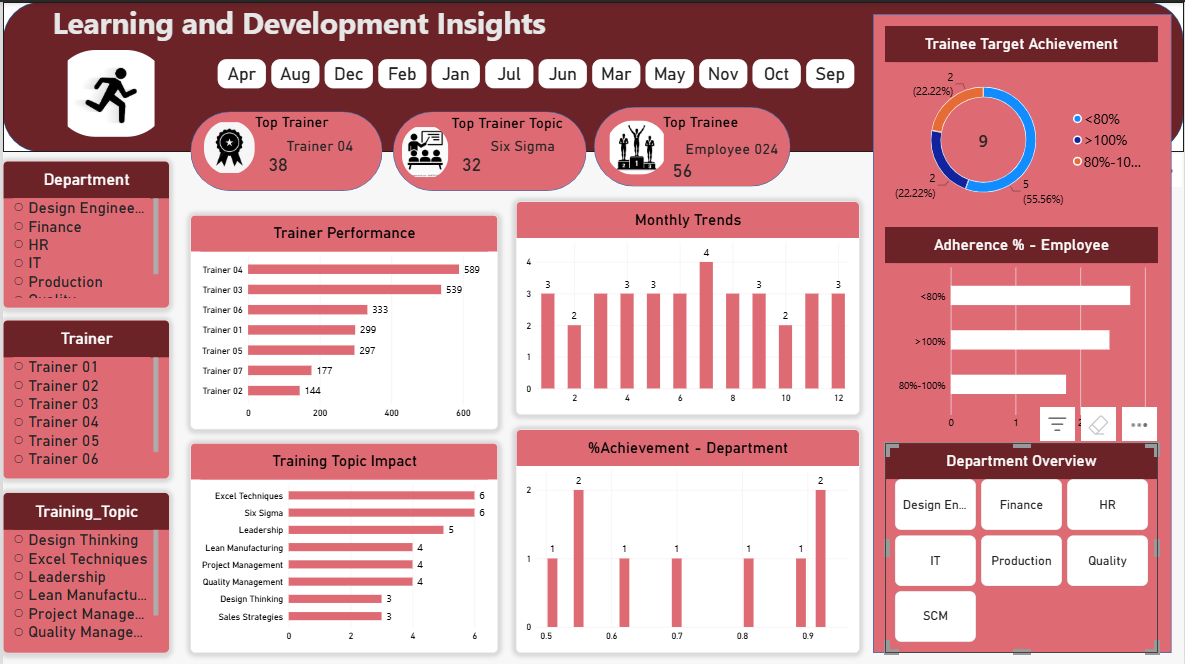

Layout of this report page (visuals, bound fields, positions):
{"tool":"powerbi","page":{"name":"Page 1","canvas":[1920,1080],"ordinal":0},"visuals":[{"type":"shape","box":[0,0,1920.1,244],"z":0},{"type":"textbox","box":[80.5,0,832,78.1],"z":1000},{"type":"advancedSlicerVisual","fields":{"Values":["Sessions_Log.Month"]},"box":[348.9,92.7,1044.2,48.8],"z":2000},{"type":"shape","box":[305,178.1,312.3,129.3],"z":3000},{"type":"shape","box":[634.4,178.1,314.7,129.3],"z":4000},{"type":"shape","box":[961.3,170.8,319.6,129.3],"z":5000},{"type":"listSlicer","fields":{"Values":["Employee_Adherence.Department"]},"box":[0,258.6,270.8,239.1],"z":6000},{"type":"listSlicer","fields":{"Values":["Sessions_Log.Trainer"]},"box":[0,517.2,270.8,258.6],"z":7000},{"type":"listSlicer","fields":{"Values":["Sessions_Log.Training_Topic"]},"box":[0,797.8,270.8,261.1],"z":8000},{"type":"clusteredBarChart","fields":{"Category":["Sessions_Log.Trainer"],"Y":["Sum(Sessions_Log.Trainee_Training_Hrs)"]},"box":[305,346.5,500.2,348.9],"z":9000},{"type":"clusteredBarChart","fields":{"Category":["Sessions_Log.Training_Topic"],"Y":["CountNonNull(Sessions_Log.Training_Topic)"]},"box":[305,717.3,500.2,341.6],"z":10000},{"type":"clusteredColumnChart","fields":{"Category":["Sessions_Log.Month_Num"],"Y":["CountNonNull(Sessions_Log.Month)"]},"box":[834.4,324.5,558.7,346.5],"z":10001},{"type":"clusteredColumnChart","fields":{"Category":["Department_Summary.Achievement_Pct"],"Y":["CountNonNull(Department_Summary.Department)"]},"box":[834.4,695.3,558.7,363.5],"z":10002},{"type":"shape","box":[1415.1,19.5,485.5,1039.4],"z":10003},{"type":"donutChart","fields":{"Category":["Employee_Adherence.Achievement_Bucket"],"Y":["CountNonNull(Employee_Adherence.Department)"]},"box":[1434.6,39,444,326.9],"z":10004},{"type":"clusteredBarChart","fields":{"Category":["Employee_Adherence.Achievement_Bucket"],"Y":["Sum(Employee_Adherence.Adherence_Pct)"]},"box":[1434.6,366,444,351.3],"z":10005},{"type":"advancedSlicerVisual","fields":{"Values":["Employee_Adherence.Department"]},"box":[1434.6,717.3,444,341.6],"z":10006},{"type":"textbox","box":[409.9,180.5,146.4,41.5],"z":10007},{"type":"textbox","box":[729.5,183,231.8,41.5],"z":10008},{"type":"textbox","box":[1073.5,180.5,146.4,41.5],"z":10009},{"type":"textbox","box":[461.1,219.6,136.6,41.5],"z":10010},{"type":"textbox","box":[431.8,248.9,43.9,41.5],"z":10011},{"type":"textbox","box":[792.9,219.6,139.1,41.5],"z":10012},{"type":"textbox","box":[746.6,248.9,58.6,41.5],"z":10013},{"type":"textbox","box":[1110.1,224.5,170.8,41.5],"z":10014},{"type":"textbox","box":[1088.2,258.6,53.7,41.5],"z":10015},{"type":"image","box":[80.5,78.1,190.3,141.5],"z":10016},{"type":"image","box":[326.9,192.7,83,87.8],"z":10017},{"type":"image","box":[649,200.1,75.6,87.8],"z":10018},{"type":"image","box":[980.8,192.7,100,87.8],"z":10019}]}

Visuals, with their boxes in screenshot pixels (x1, y1, x2, y2), scaled from the page's 1920x1080 canvas onto the 1185x664 screenshot:
shape: [0,0,1184,150]
textbox: [50,0,563,48]
advancedSlicerVisual - Sessions_Log.Month: [215,57,860,87]
shape: [188,109,381,189]
shape: [392,109,586,189]
shape: [593,105,791,185]
listSlicer - Employee_Adherence.Department: [0,159,167,306]
listSlicer - Sessions_Log.Trainer: [0,318,167,477]
listSlicer - Sessions_Log.Training_Topic: [0,490,167,651]
clusteredBarChart - Sessions_Log.Trainer x Sum(Sessions_Log.Trainee_Training_Hrs): [188,213,497,428]
clusteredBarChart - Sessions_Log.Training_Topic x CountNonNull(Sessions_Log.Training_Topic): [188,441,497,651]
clusteredColumnChart - Sessions_Log.Month_Num x CountNonNull(Sessions_Log.Month): [515,200,860,413]
clusteredColumnChart - Department_Summary.Achievement_Pct x CountNonNull(Department_Summary.Department): [515,427,860,651]
shape: [873,12,1173,651]
donutChart - Employee_Adherence.Achievement_Bucket x CountNonNull(Employee_Adherence.Department): [885,24,1159,225]
clusteredBarChart - Employee_Adherence.Achievement_Bucket x Sum(Employee_Adherence.Adherence_Pct): [885,225,1159,441]
advancedSlicerVisual - Employee_Adherence.Department: [885,441,1159,651]
textbox: [253,111,343,136]
textbox: [450,113,593,138]
textbox: [663,111,753,136]
textbox: [285,135,369,161]
textbox: [267,153,294,179]
textbox: [489,135,575,161]
textbox: [461,153,497,179]
textbox: [685,138,791,164]
textbox: [672,159,705,185]
image: [50,48,167,135]
image: [202,118,253,172]
image: [401,123,447,177]
image: [605,118,667,172]
